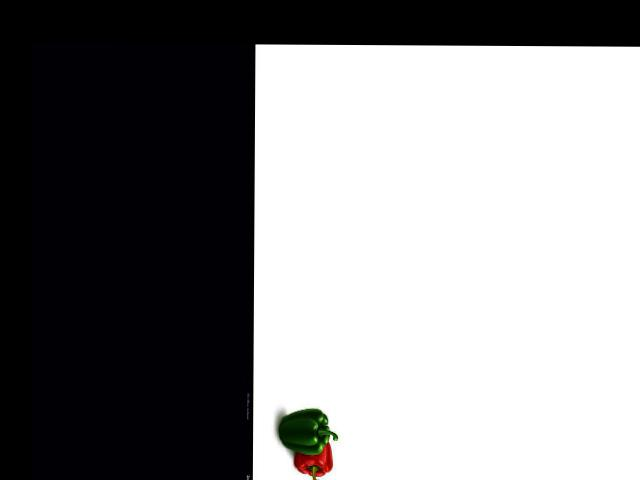bell_pepper: (295, 440, 337, 480)
